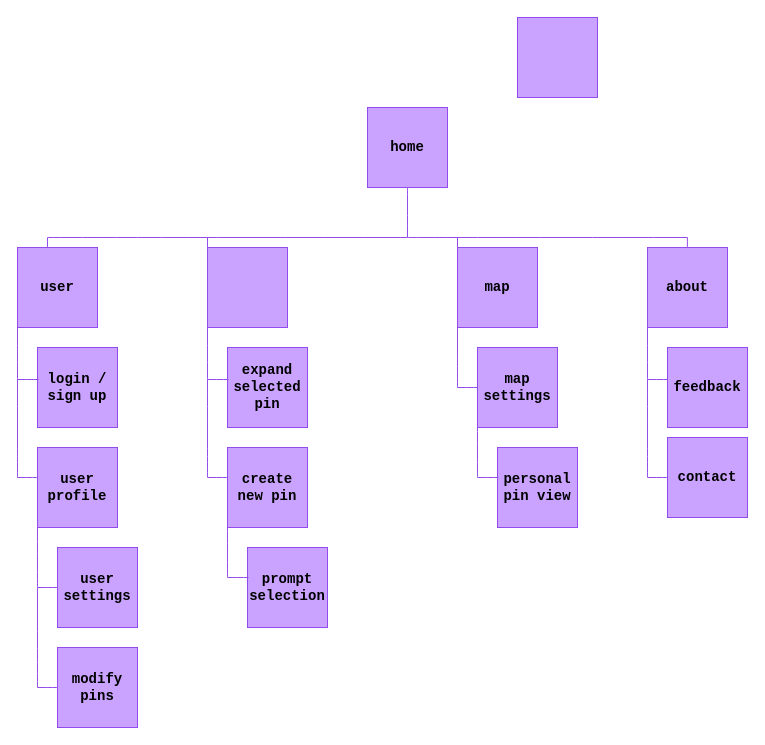
This 765x745 diagram has some shape labels left out. The centre of each missing label's shape, as x and y in pixels:
pins: the point at 247,287
tutorial pop up: the point at 557,57
